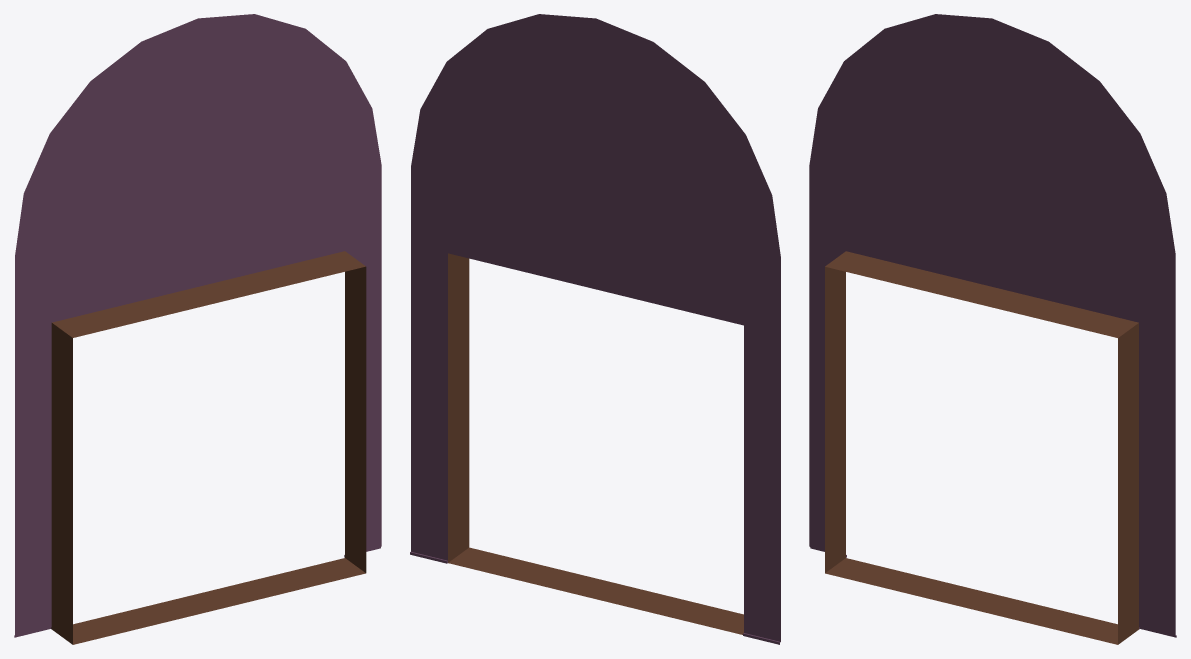
Rendered from Tile13_fix.fbx.
3 views of the same model, side by side, from view 1: azimuth 30°, elevation 25°; view 2: azimuth 150°, elevation 25°; view 3: azimuth 330°, elevation 25° (orthographic).
Parts seen in each view (by area): view 1: Tile13; view 2: Tile13; view 3: Tile13.
Part boxes in pixels (bbox=[...]): Tile13: bbox=[14, 14, 381, 644]; Tile13: bbox=[410, 14, 780, 644]; Tile13: bbox=[809, 14, 1176, 644].
Size of the model in its own units: 500 by 750 by 52.
